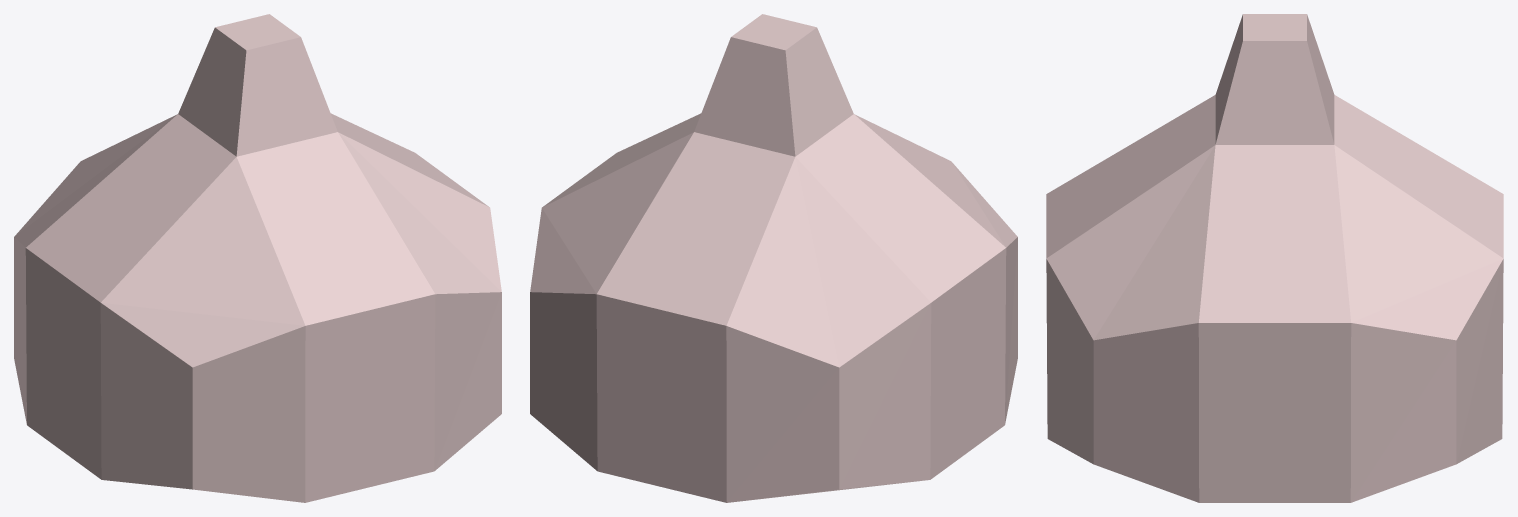
3 views of the same model, side by side, from view 1: azimuth 30°, elevation 25°; view 2: azimuth 150°, elevation 25°; view 3: azimuth 270°, elevation 25° (orthographic).
Parts seen in each view (by area): view 1: Cake; view 2: Cake; view 3: Cake.
Part boxes in pixels (bbox=[...]): Cake: bbox=[14, 14, 501, 502]; Cake: bbox=[530, 14, 1017, 502]; Cake: bbox=[1046, 14, 1503, 502].
Bounding box in the file's own units: 0.9507 × 0.8704 × 0.9507.
